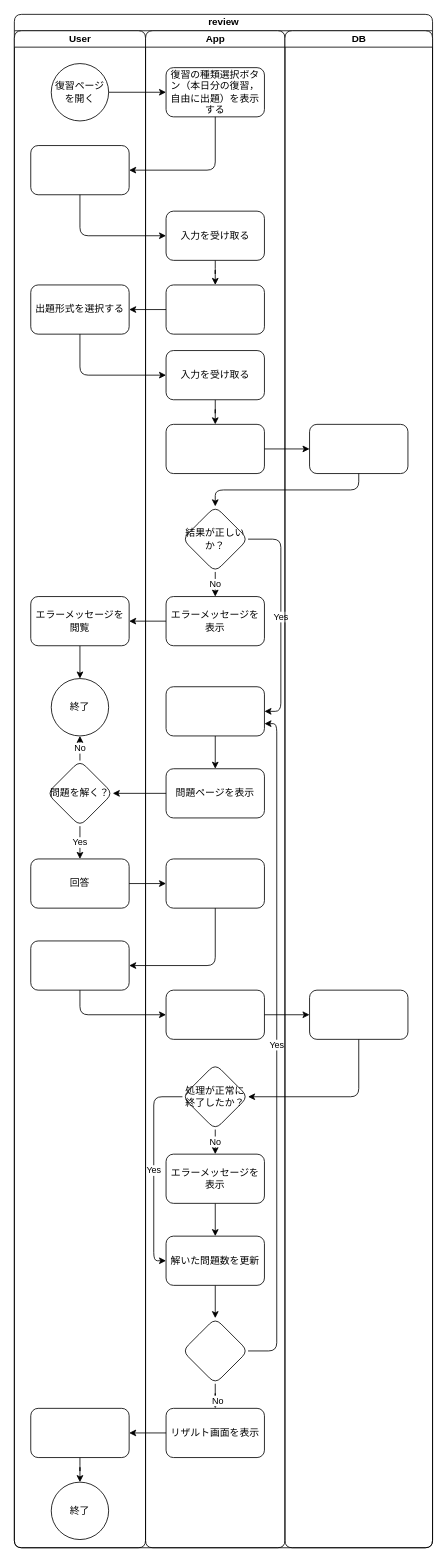
Some shapes in this 447 by 1562 pixel diagram are drawn without their labels. The centre of each missing label's shape, as x and y in pixels:
"DBを更新" belongs at point 358,1014.
"クエリをもとにデータを検索し結果を返す" belongs at point 358,449.
"セルフフィードバックを入力，送信" belongs at point 79,965.
"フィードバック結果を元にDBに更新を依頼" belongs at point 214,1014.
"出題していないマテリアルがあるか" belongs at point 215,1350.
"出題形式選択ボタン（フラッシュカード，ディクテーションなど）を表示する" belongs at point 214,309.
"問題を生成" belongs at point 214,711.
"学習曲線に基づいてマテリアル を抽出するクエリを投げる" belongs at point 214,449.
"復習の種類を選択する" belongs at point 79,170.
"正解を表示" belongs at point 214,883.
"終了ボタンを押下" belongs at point 79,1433.
